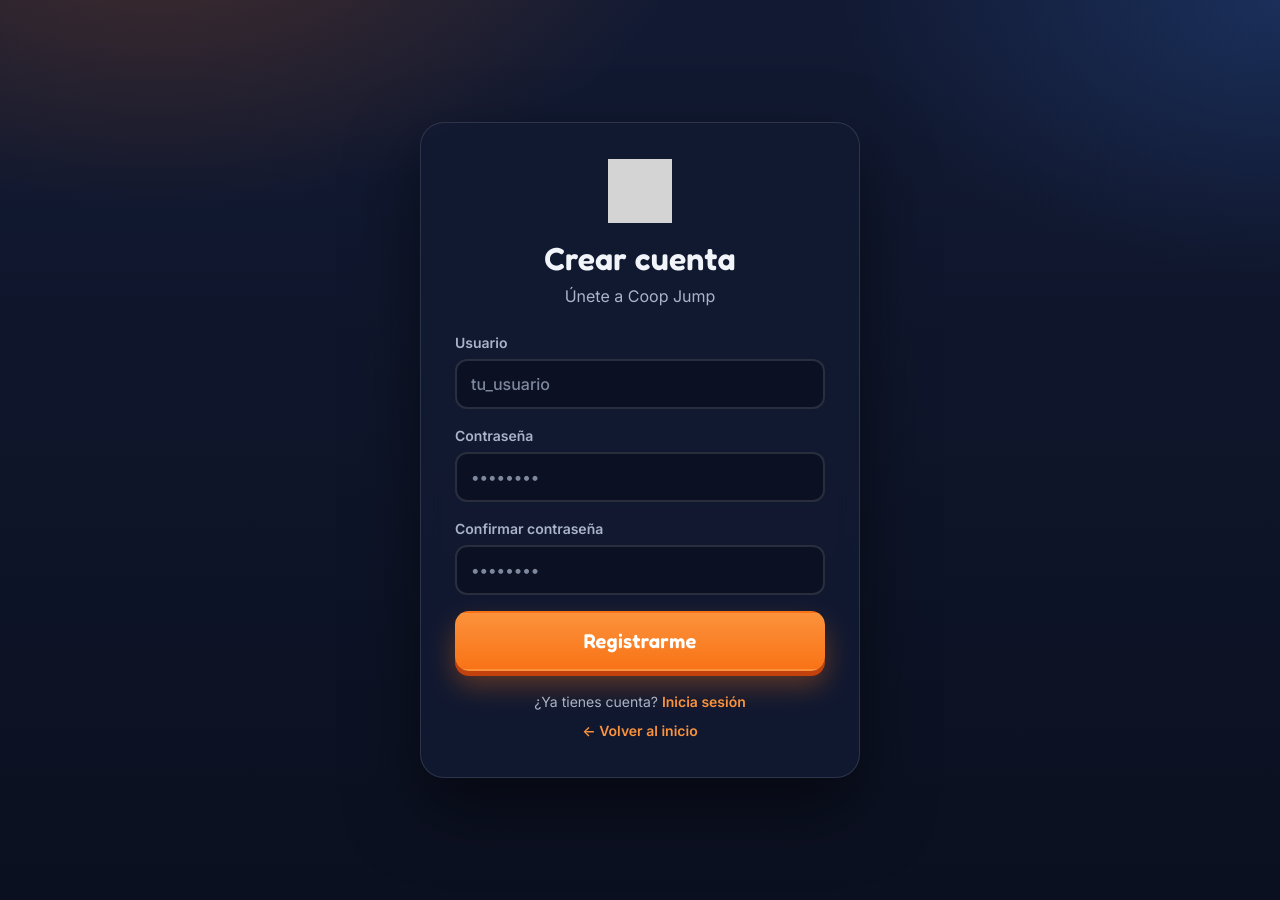
Test: Register › valida que las contraseñas coincidan
The width and height of the screenshot is (1280, 900).
Type "ana" into the field labelled "Usuario" at (640, 384), box [455,359,825,409]
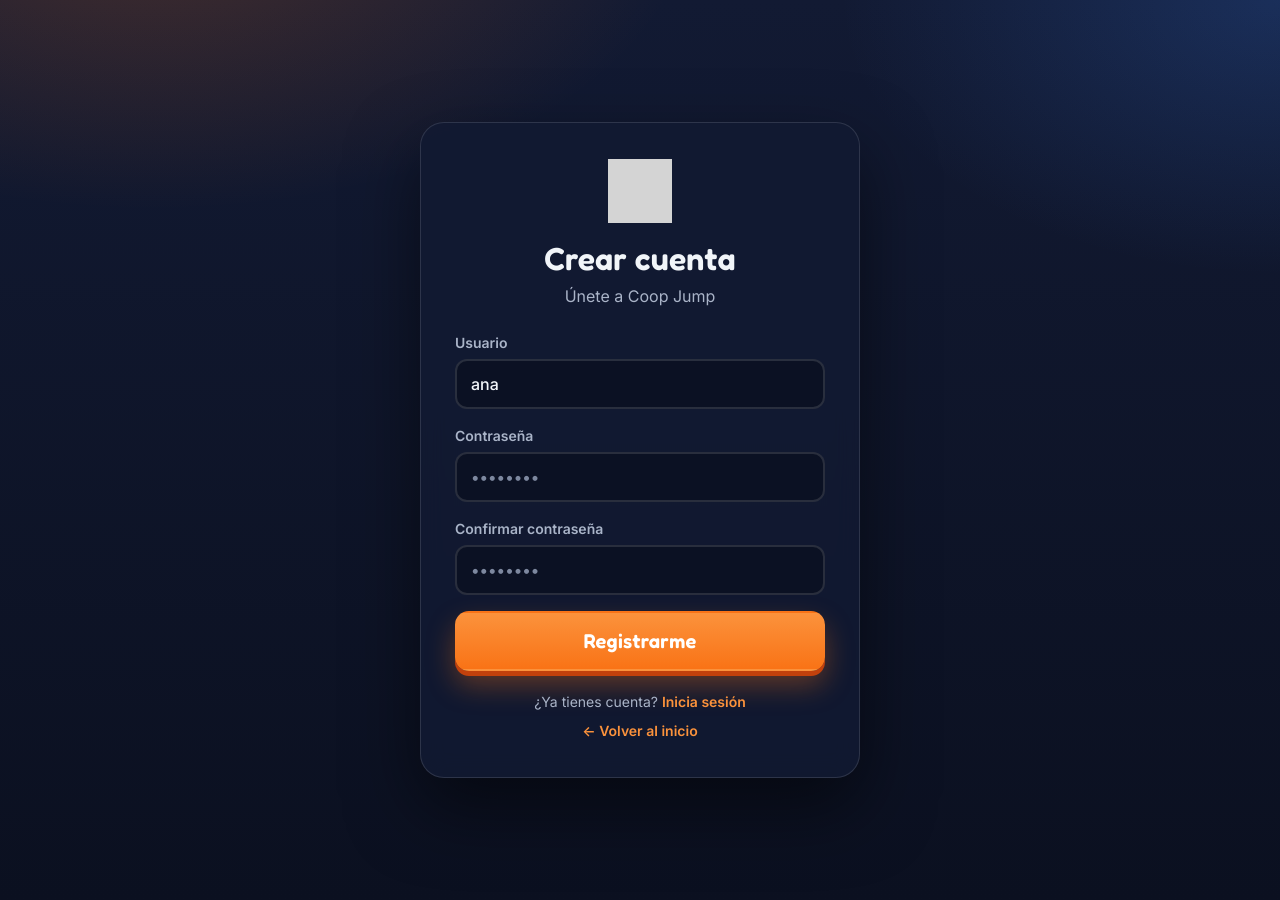
Type "uno" into the password field labelled "Contraseña" at (640, 477), box [455,452,825,502]
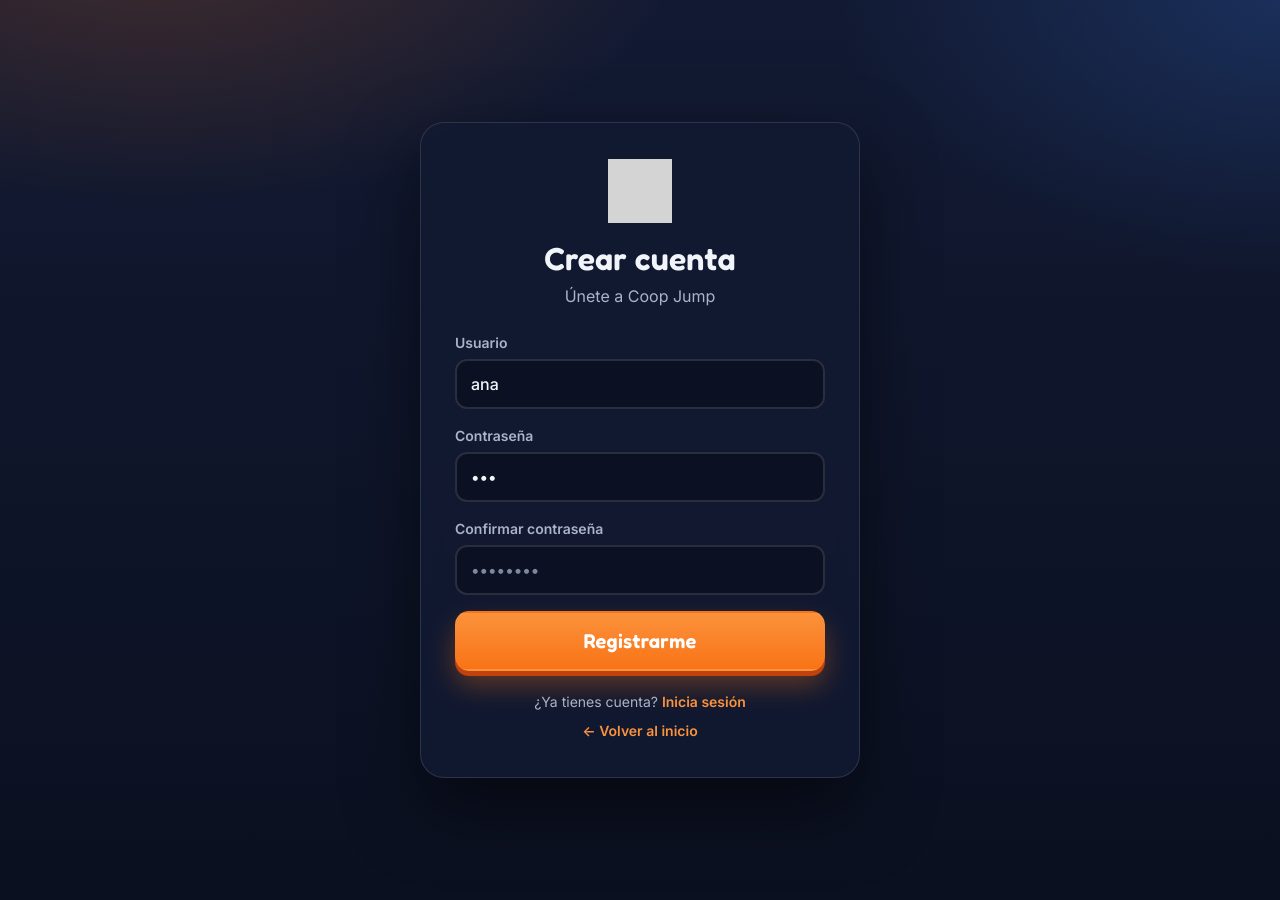
Type "dos" into the password field labelled "Confirmar contraseña" at (640, 570), box [455,545,825,595]
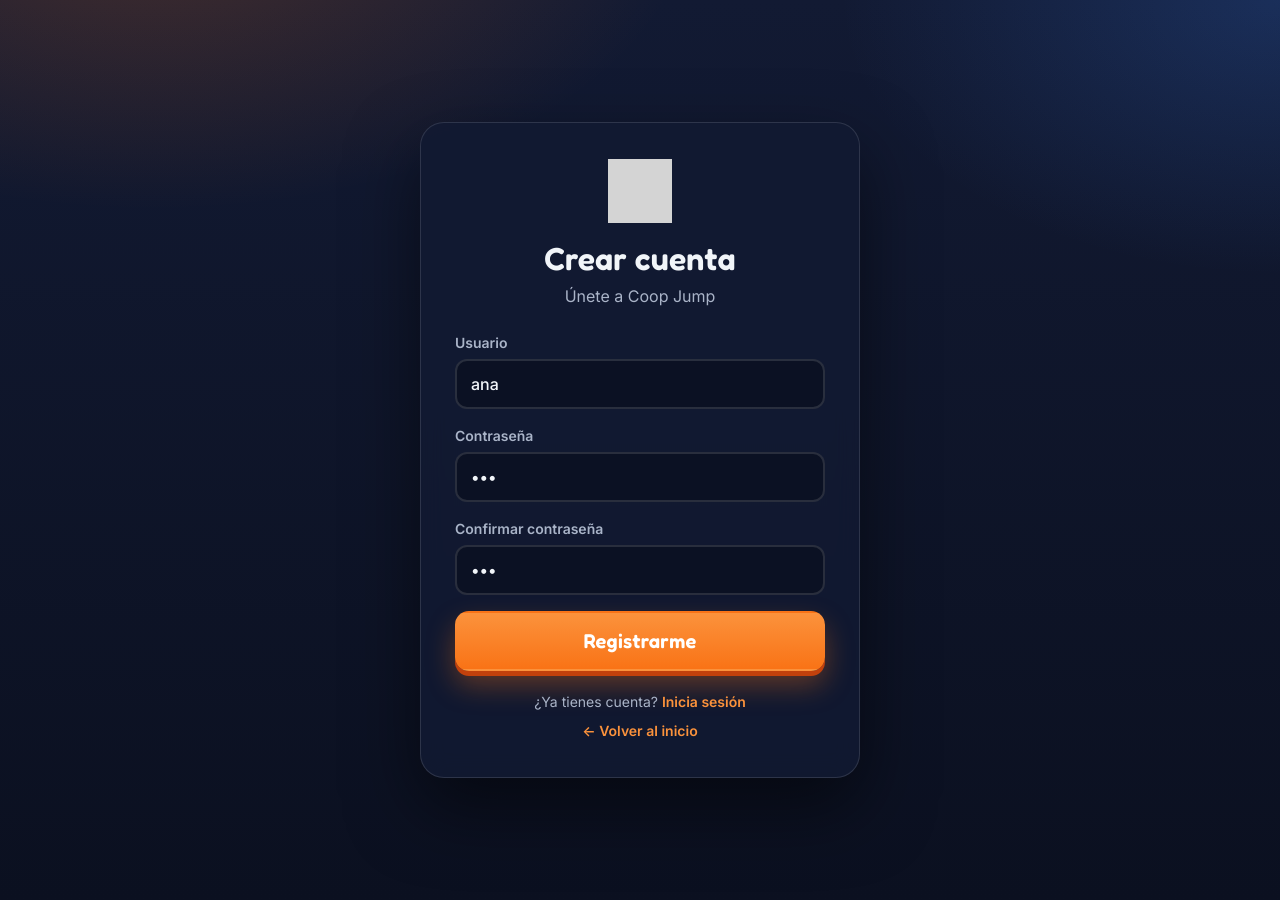
Click the button "Registrarme" at (640, 641), box [455,611,825,671]
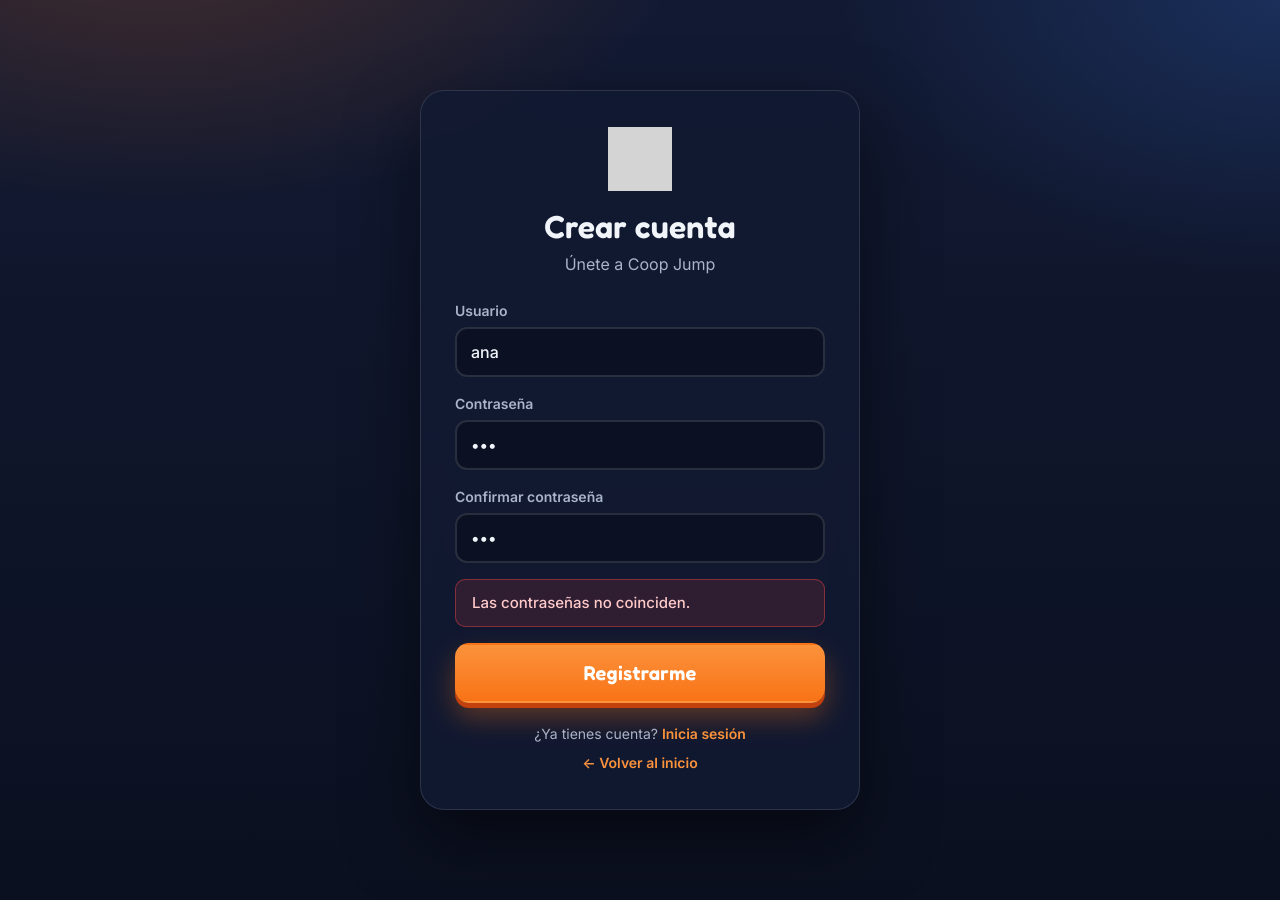
Expected: the message reads "Las contraseñas no coinciden.", [472,593,690,612]
